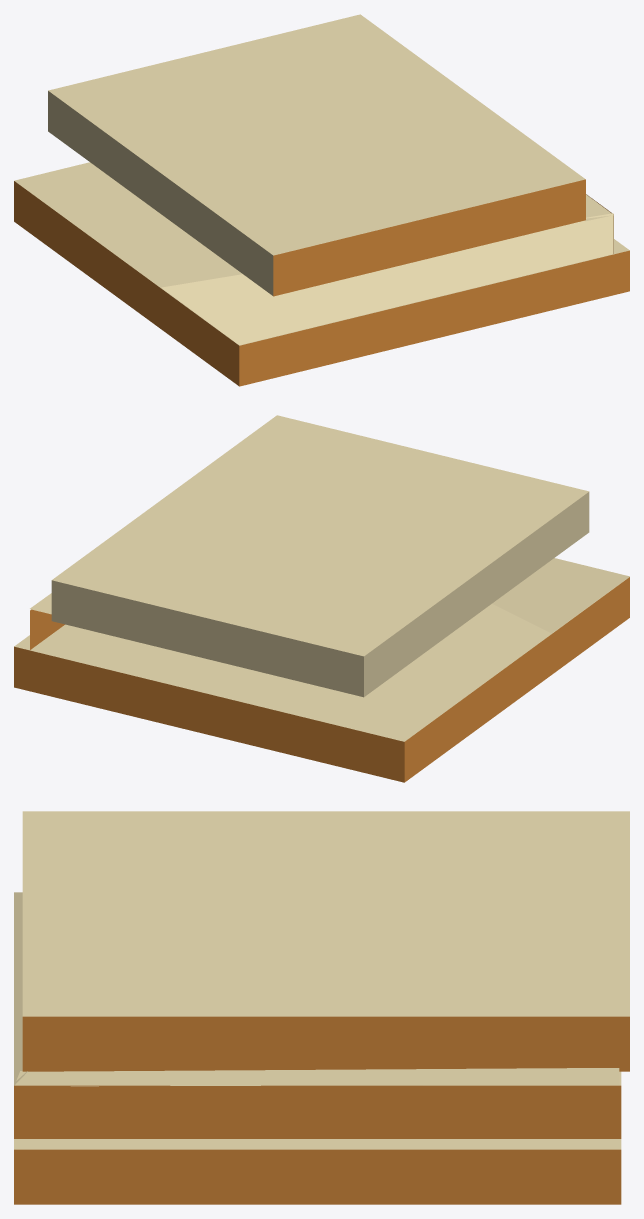
Rendered from normal_disappear.glb.
The picture shows the model from 3 angles, top to bottom: view 1: azimuth 30°, elevation 25°; view 2: azimuth 150°, elevation 25°; view 3: azimuth 270°, elevation 25°; orthographic projection. The views are drawn at different scales.
Visible parts, largest first — view 1: Cube, Cube.001, Plane.001; view 2: Cube, Cube.001, Plane.001, Plane; view 3: Cube, Cube.001, Plane, Plane.002, Plane.001.
Part boxes in pixels (bbox=[...]): Cube: bbox=[48, 14, 585, 296]; Cube.001: bbox=[14, 162, 629, 386]; Plane.001: bbox=[161, 213, 613, 345]; Cube: bbox=[51, 415, 589, 697]; Cube.001: bbox=[14, 576, 629, 782]; Plane.001: bbox=[492, 558, 629, 633]; Plane: bbox=[30, 609, 64, 649]; Cube: bbox=[22, 811, 629, 1071]; Cube.001: bbox=[14, 1071, 621, 1204]; Plane: bbox=[14, 1085, 621, 1138]; Plane.002: bbox=[15, 1068, 619, 1086]; Plane.001: bbox=[14, 892, 27, 1085].
Bounding box in the file's own units: 2 × 0.585 × 2.03.
